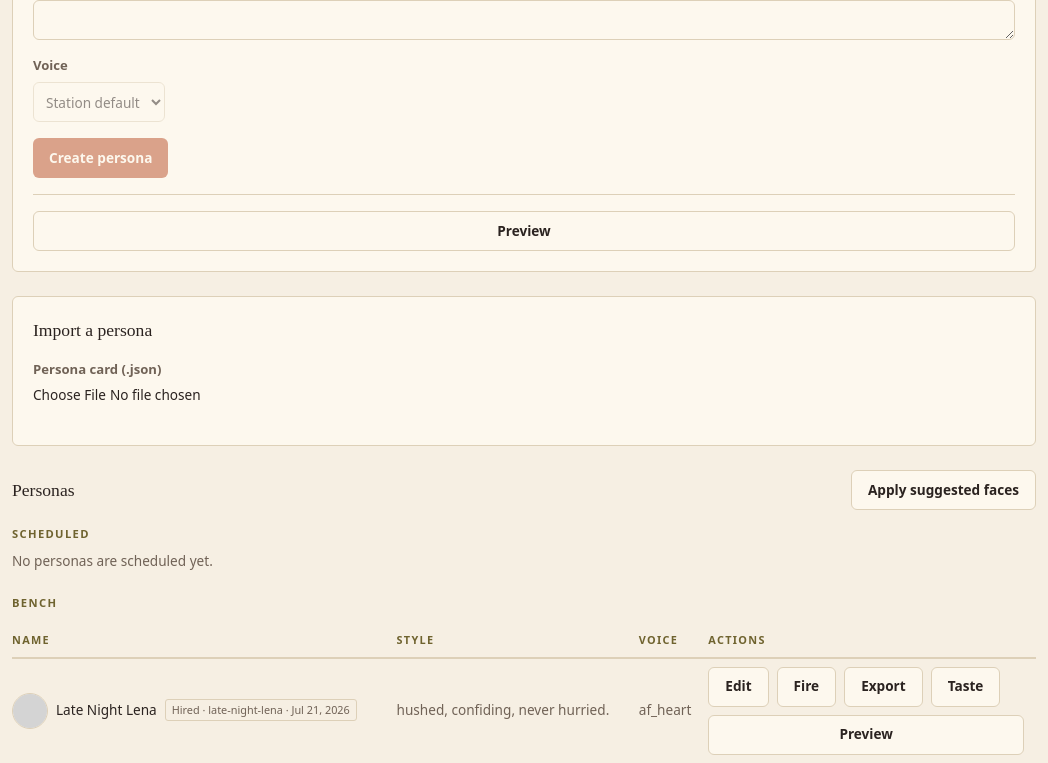
Test: Feature: the persona editor speaks the catalog card schema (gh-#256) › Scenario: a hired DJ's card is visible › shows the card's quirks and lore read-only in the edit form
The image size is (1048, 763).
(page scrolled)
Click the button "Edit": (738,686) [708,666,769,706]
(page scrolled)
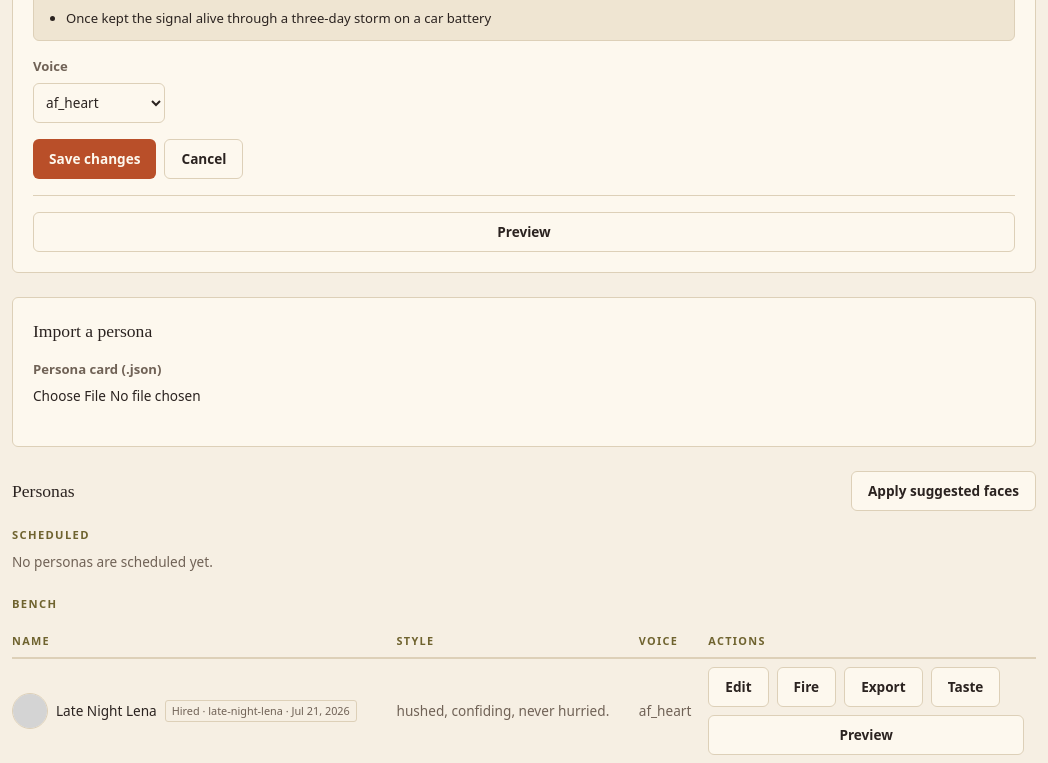
Check: the list item "Once kept the signal alive through a three-day storm on a car battery" is shown, box [66,9,491,27]
